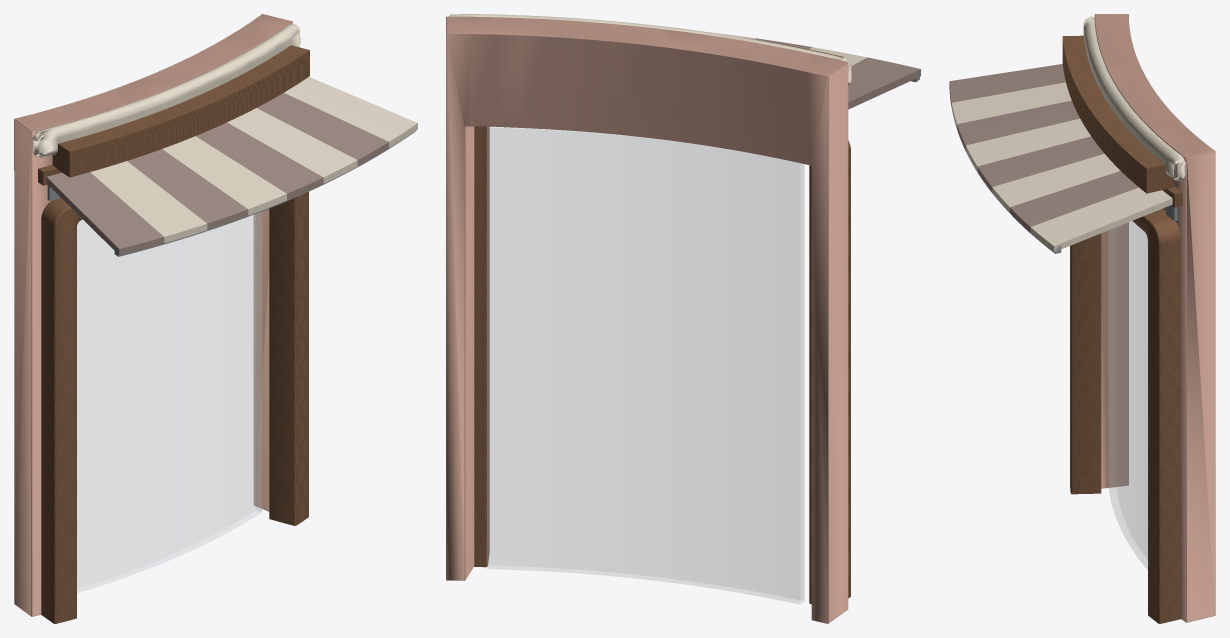
File: ArcShopfront_R4_A30.glb
3 views of the same model, side by side, from view 1: azimuth 30°, elevation 25°; view 2: azimuth 150°, elevation 25°; view 3: azimuth 270°, elevation 25° (orthographic). The views are drawn at different scales.
Visible parts, largest first — view 1: PBK_Arc_PBK_glass.002, PBK_Continuous_Frame_Brick_Shopfront.003, PBK_substrate.001, PBK_Arc_PBK_signboard.006, PBK_floor_band.001, PBK_Arc_PBK_awning_stripe.006, PBK_Arc_PBK_awning_stripe.007, PBK_Arc_PBK_awning_stripe.011, PBK_Arc_PBK_awning_stripe.012, PBK_Arc_PBK_awning_stripe.013, PBK_Arc_PBK_awning_stripe.014, PBK_Arc_PBK_awning_stripe.015 (+1 smaller); view 2: PBK_Arc_PBK_glass.002, PBK_substrate.001, PBK_Continuous_Frame_Brick_Shopfront.003, PBK_Arc_PBK_awning_stripe.006, PBK_floor_band.001; view 3: PBK_substrate.001, PBK_Continuous_Frame_Brick_Shopfront.003, PBK_Arc_PBK_glass.002, PBK_Arc_PBK_signboard.006, PBK_Arc_PBK_awning_stripe.022, PBK_floor_band.001, PBK_Arc_PBK_awning_stripe.015, PBK_Arc_PBK_awning_stripe.014, PBK_Arc_PBK_awning_stripe.013, PBK_Arc_PBK_awning_stripe.012, PBK_Arc_PBK_awning_stripe.011, PBK_Arc_PBK_awning_stripe.007 (+1 smaller).
Part boxes in pixels (<box>): PBK_Arc_PBK_glass.002: <box>77,212,261,592</box>; PBK_Continuous_Frame_Brick_Shopfront.003: <box>41,192,308,623</box>; PBK_substrate.001: <box>14,14,292,616</box>; PBK_Arc_PBK_signboard.006: <box>52,45,309,177</box>; PBK_floor_band.001: <box>32,24,300,157</box>; PBK_Arc_PBK_awning_stripe.006: <box>46,172,164,255</box>; PBK_Arc_PBK_awning_stripe.007: <box>90,161,207,243</box>; PBK_Arc_PBK_awning_stripe.011: <box>127,149,248,229</box>; PBK_Arc_PBK_awning_stripe.012: <box>162,136,286,215</box>; PBK_Arc_PBK_awning_stripe.013: <box>196,122,323,199</box>; PBK_Arc_PBK_awning_stripe.014: <box>227,108,357,183</box>; PBK_Arc_PBK_awning_stripe.015: <box>257,93,388,165</box>; PBK_Arc_PBK_glass.002: <box>487,127,804,604</box>; PBK_substrate.001: <box>446,16,848,623</box>; PBK_Continuous_Frame_Brick_Shopfront.003: <box>474,126,850,603</box>; PBK_Arc_PBK_awning_stripe.006: <box>848,57,920,109</box>; PBK_floor_band.001: <box>449,14,851,86</box>; PBK_substrate.001: <box>1094,14,1215,622</box>; PBK_Continuous_Frame_Brick_Shopfront.003: <box>1070,209,1180,623</box>; PBK_Arc_PBK_glass.002: <box>1109,221,1147,569</box>; PBK_Arc_PBK_signboard.006: <box>1062,35,1173,193</box>; PBK_Arc_PBK_awning_stripe.022: <box>1030,187,1172,252</box>; PBK_floor_band.001: <box>1083,16,1185,181</box>; PBK_Arc_PBK_awning_stripe.015: <box>1010,171,1138,232</box>; PBK_Arc_PBK_awning_stripe.014: <box>992,154,1120,212</box>; PBK_Arc_PBK_awning_stripe.013: <box>977,136,1104,192</box>; PBK_Arc_PBK_awning_stripe.012: <box>966,118,1090,172</box>; PBK_Arc_PBK_awning_stripe.011: <box>957,100,1079,151</box>; PBK_Arc_PBK_awning_stripe.007: <box>951,82,1071,129</box>.
Size of the model in its own units: 2.36 by 3 by 1.56.
7 materials, 2 textured.
